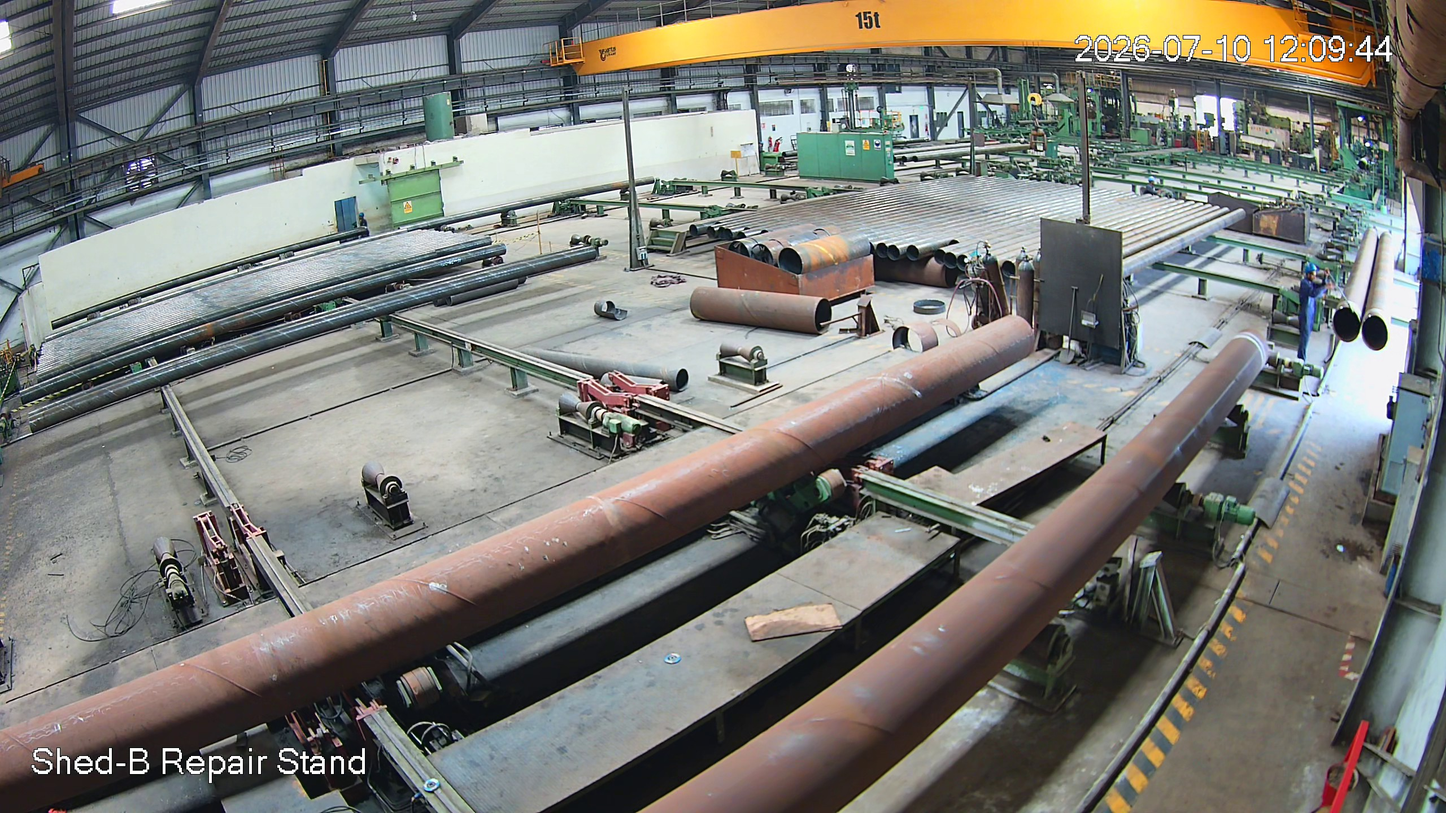Helmet: (1302, 260, 1334, 291)
Person: (1295, 261, 1330, 364)
